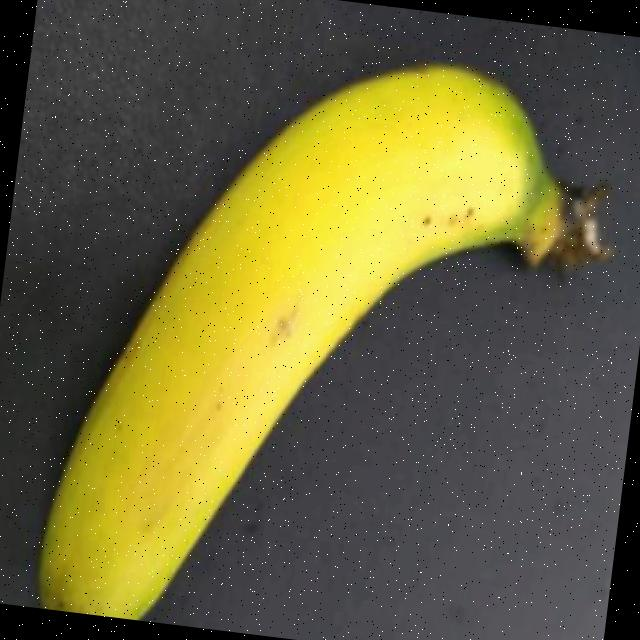Ripe: (21, 0, 635, 640)
